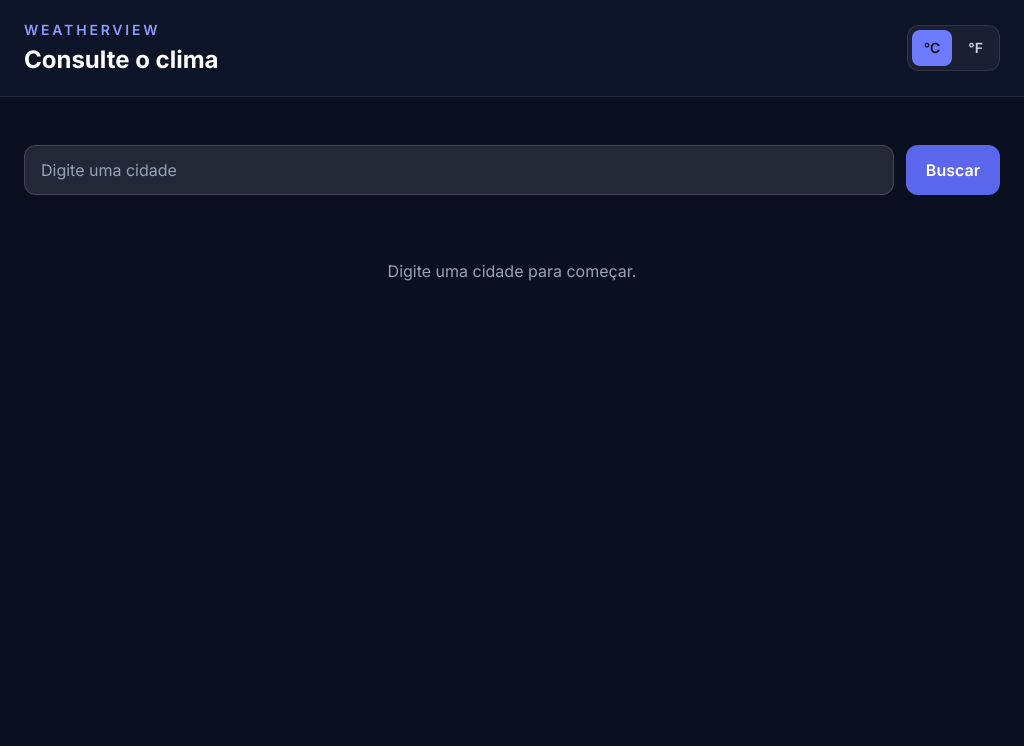
Test case: interface do weather app › identifica temperatura atual indisponível sem exibir zero
The width and height of the screenshot is (1024, 746).
In the search field named "Nome da cidade": (459, 170) [24,145,894,195], type "São Paulo"
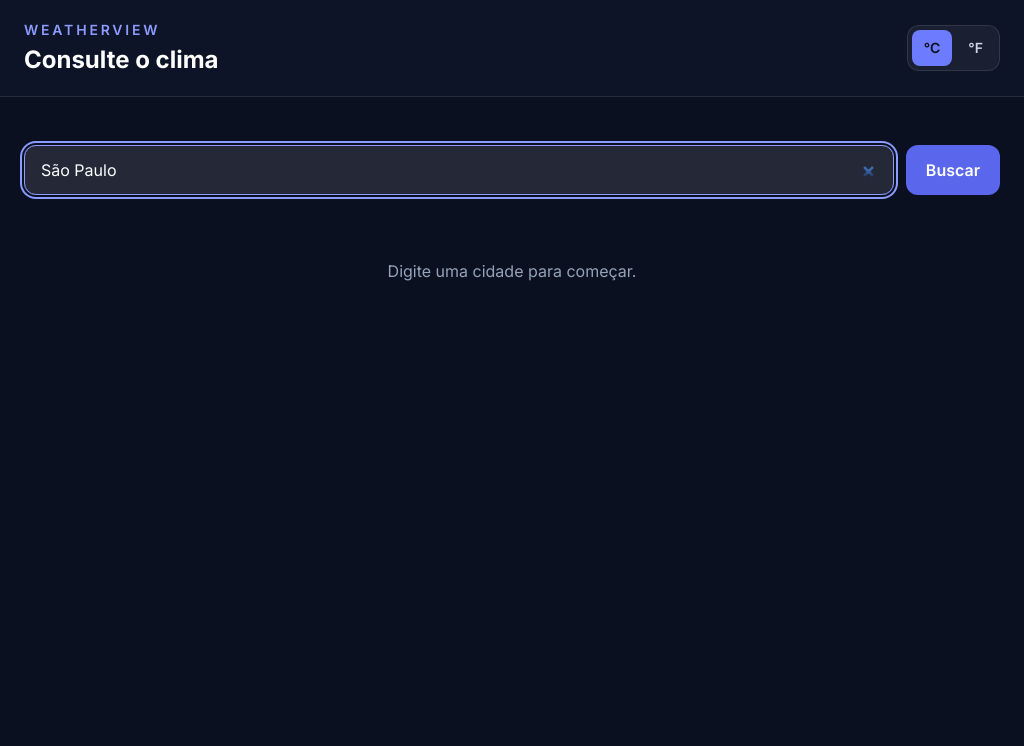
Click the button "Buscar": (953, 170) [906,145,1000,195]
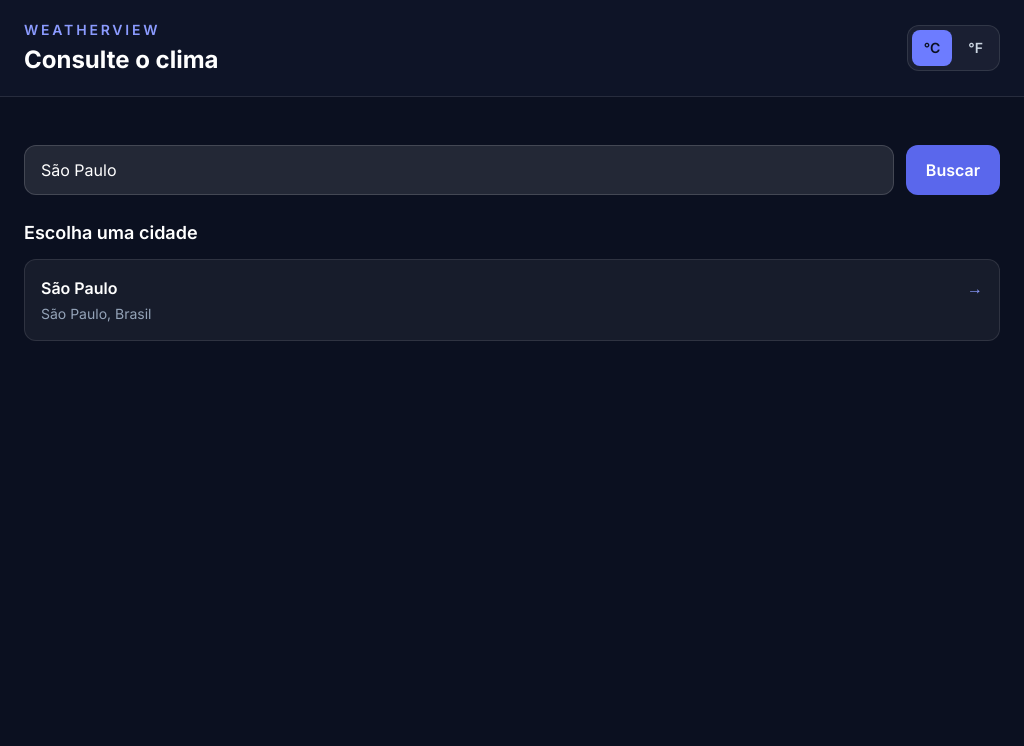
Click the button "São Paulo São Paulo, Brasil →": (79, 288) [24,259,1000,341]
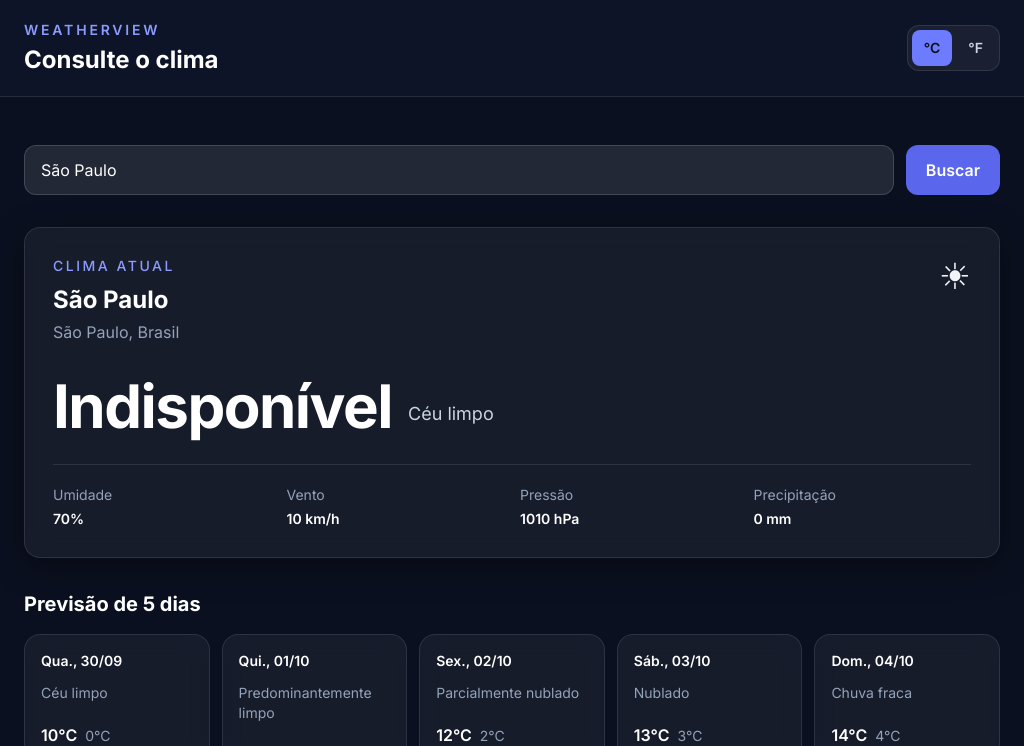
Check: the text with test id "current-temperature" reads "Indisponível", box [53,370,392,442]
